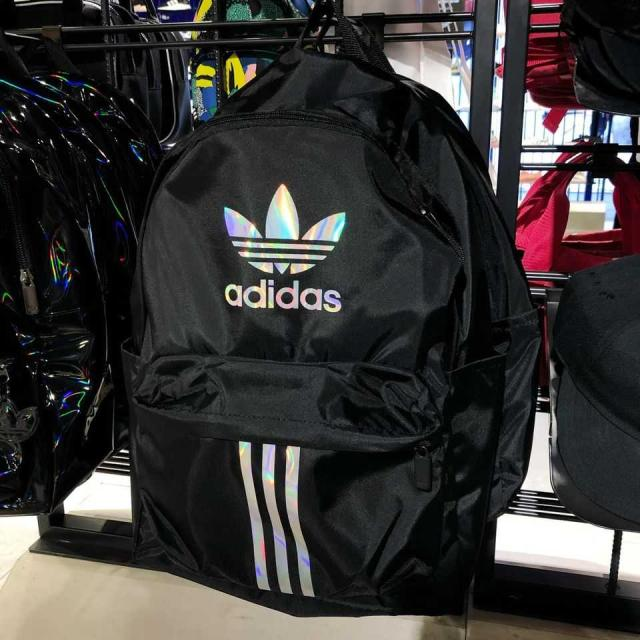handbag: (98, 68, 530, 614)
